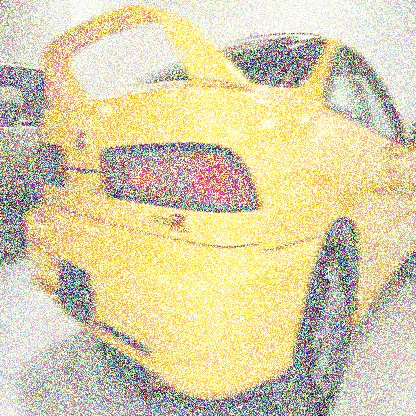Vehicle: (23, 4, 416, 415)
